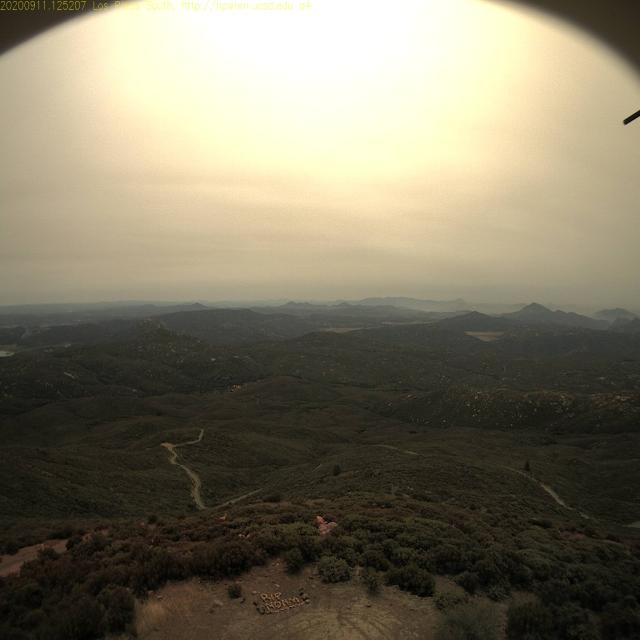smoke: (17, 316, 52, 342)
